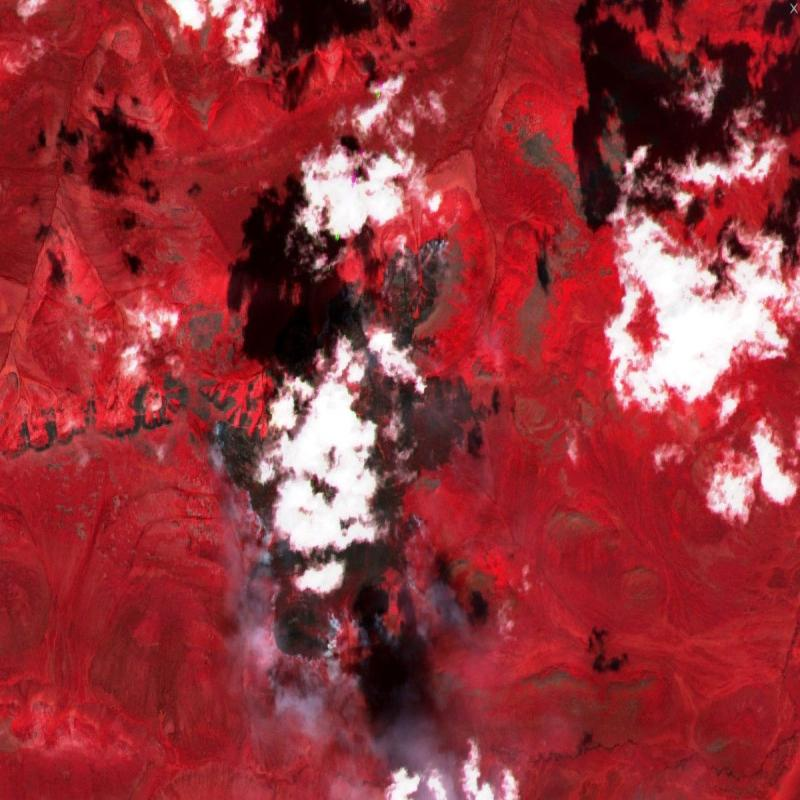fire: (203, 224, 503, 690)
